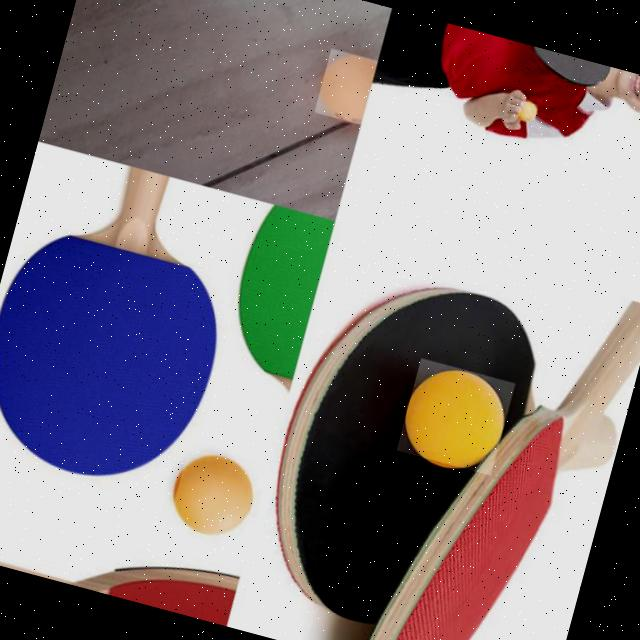ping-pong-ball: (394, 358, 514, 476), (166, 446, 260, 542), (310, 47, 376, 125), (515, 100, 538, 121)
